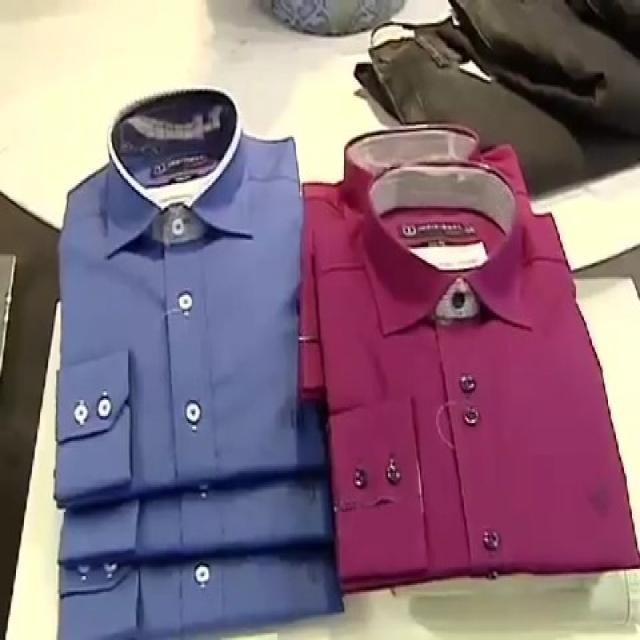Shirt: (311, 161, 640, 584), (52, 84, 328, 510), (297, 120, 534, 396), (56, 549, 343, 640), (57, 472, 334, 566)
